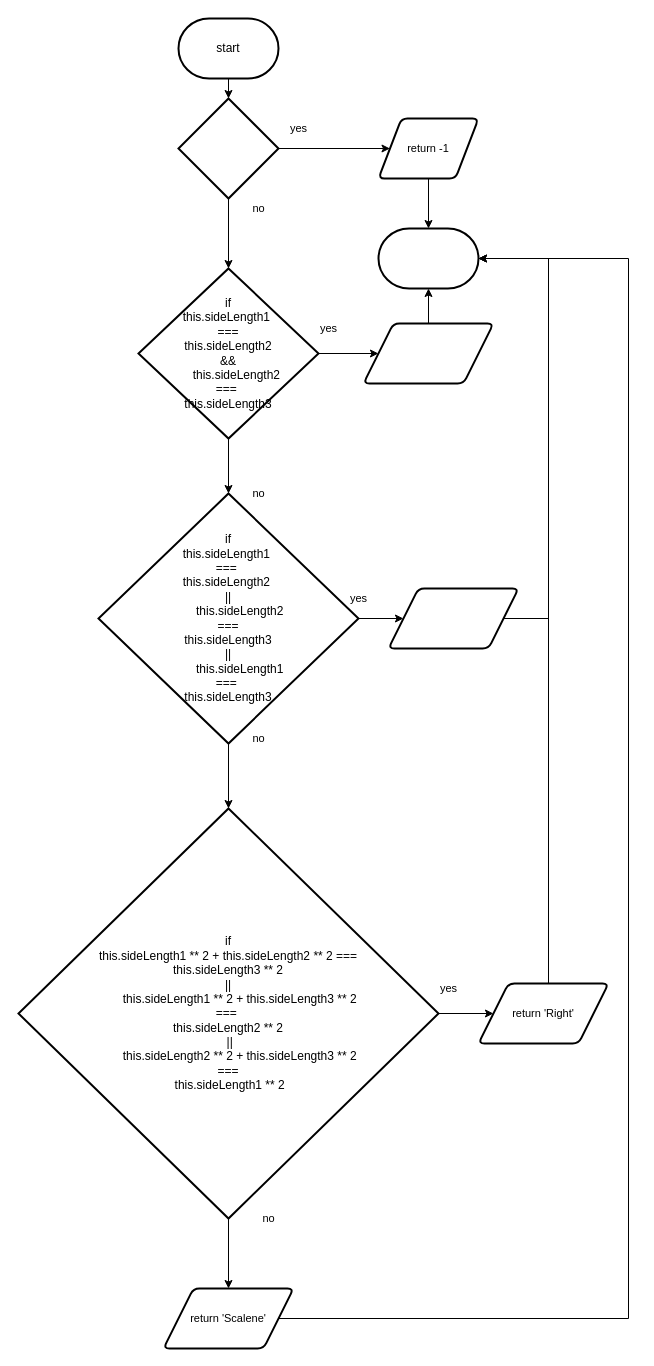
This 654x1366 diagram has some shape labels left out. Here are the shapes that lost their labels. From the top down, the centre of each, then its label:
At point (228, 148): "if !this.isValid()".
At point (428, 258): "stop".
At point (428, 353): "return 'Equilateral'".
At point (453, 618): "return 'Isoceles'".
